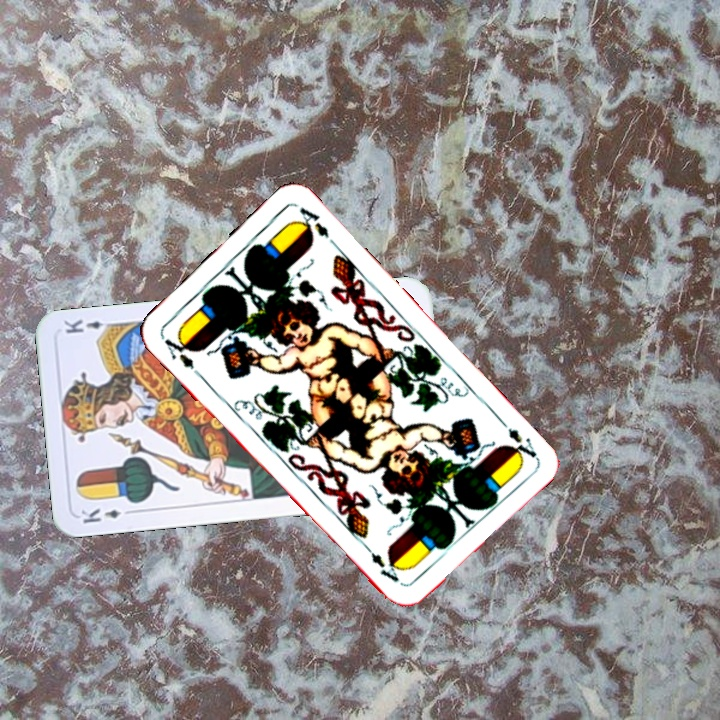EA: (494, 413, 540, 464), (157, 330, 203, 379)
EK: (77, 505, 136, 526)
